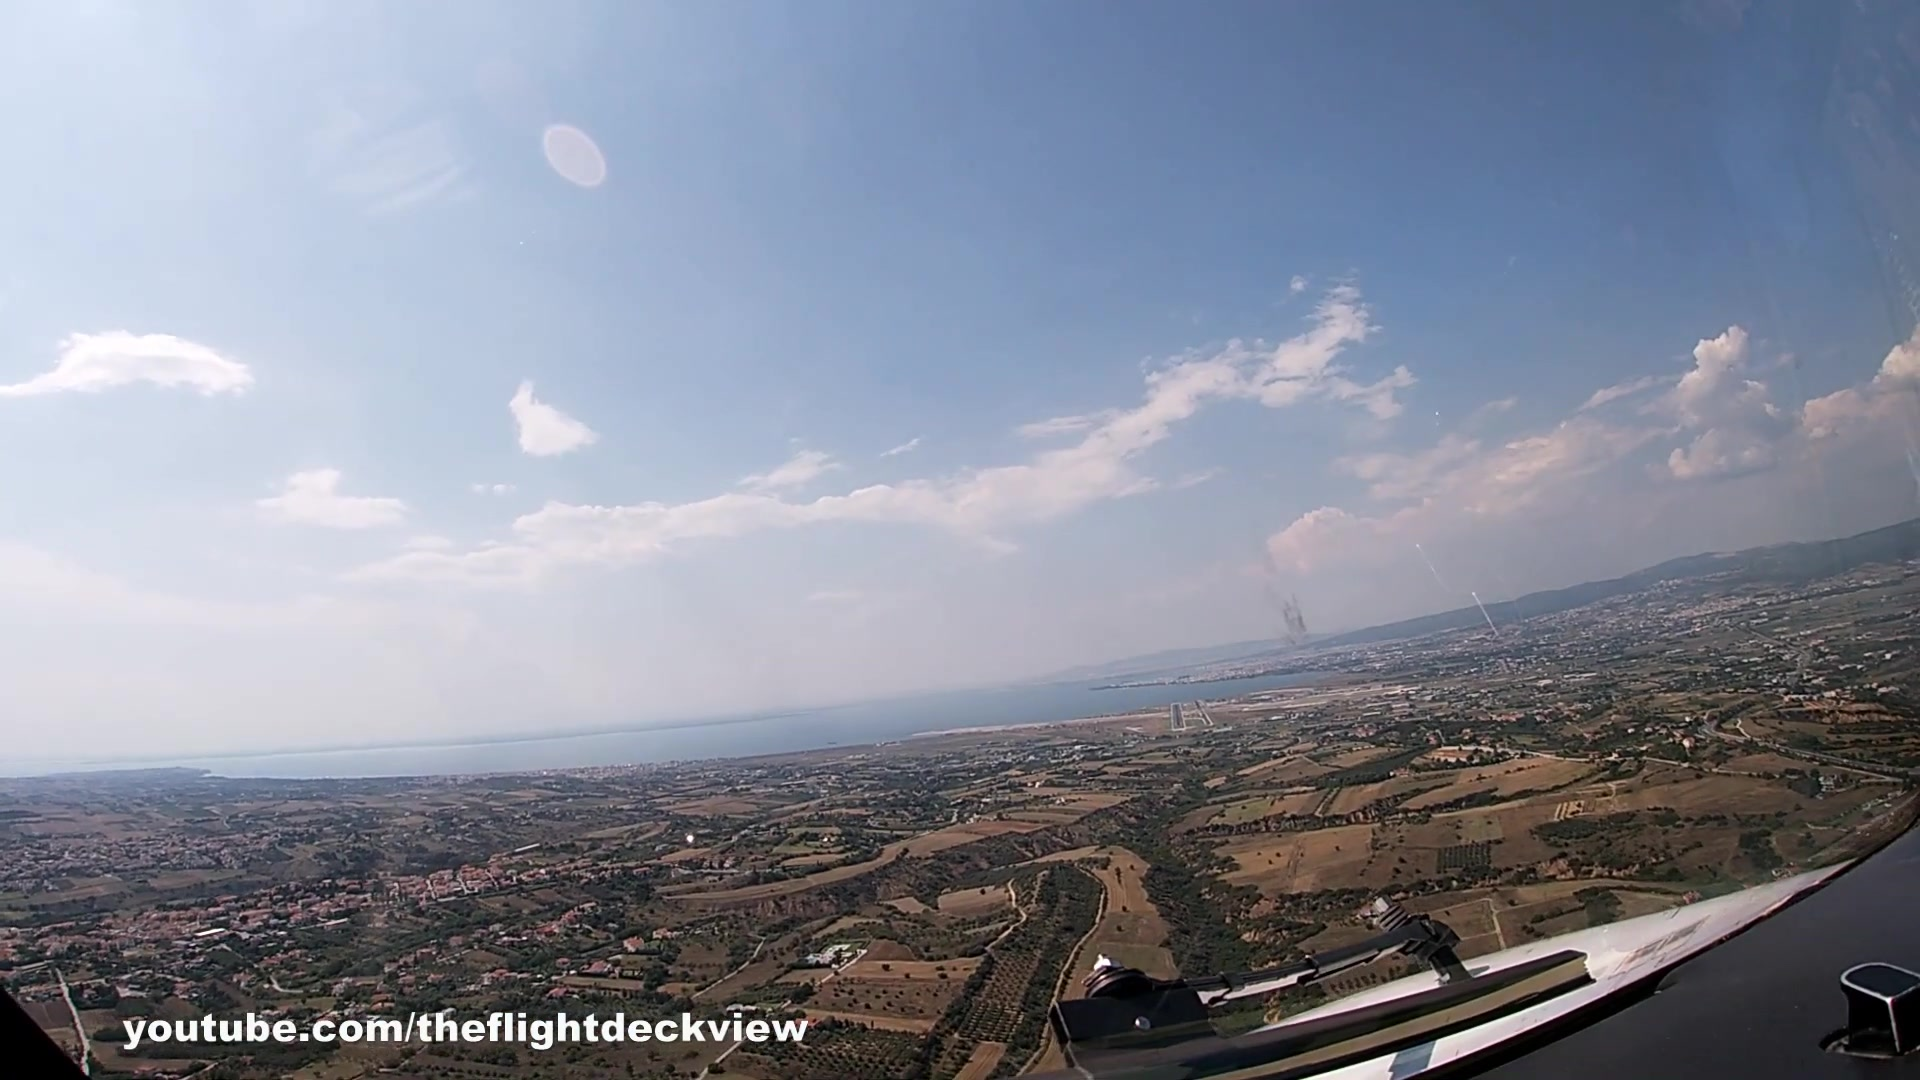runway: (1167, 702, 1187, 732)
